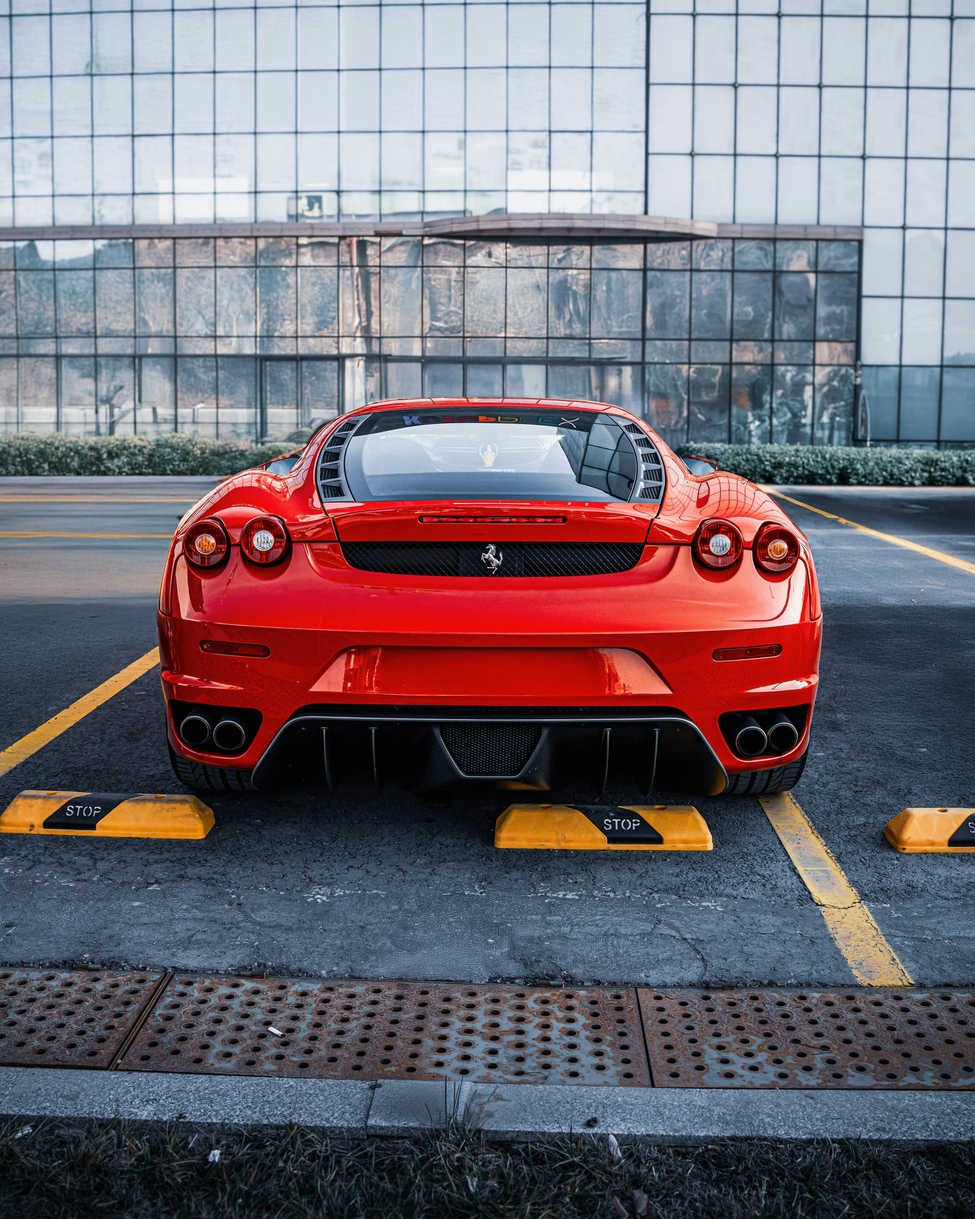other: (143, 393, 820, 807)
